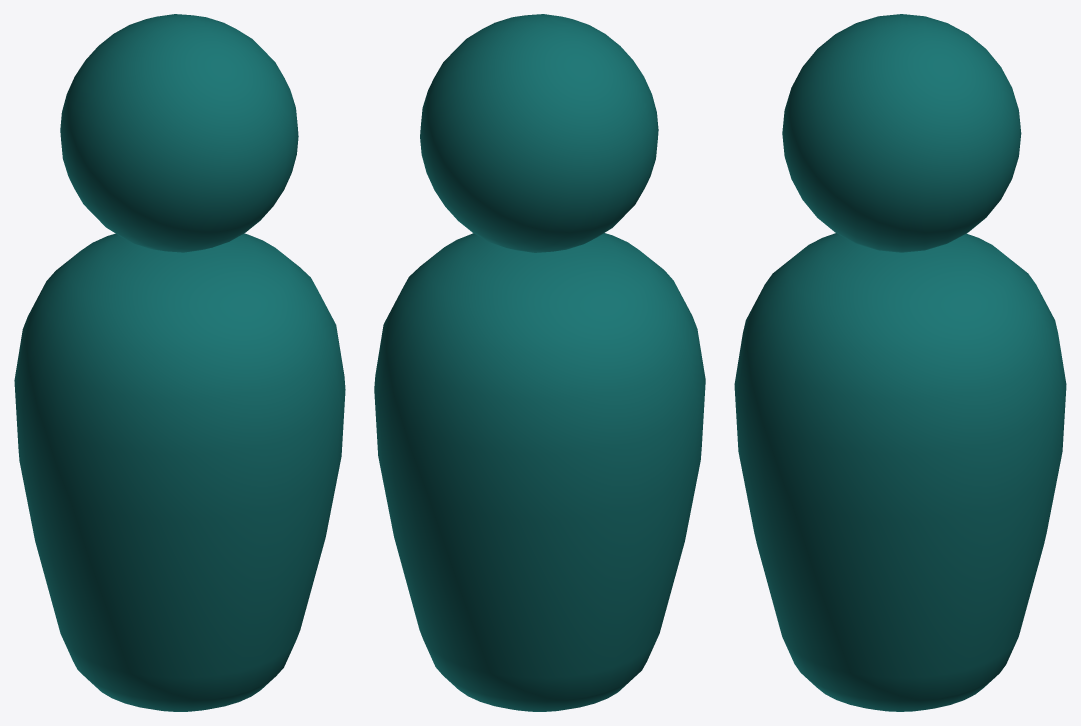
Rendered from location-marker(2).glb.
3 views of the same model, side by side, from view 1: azimuth 30°, elevation 25°; view 2: azimuth 150°, elevation 25°; view 3: azimuth 270°, elevation 25° (orthographic).
Parts seen in each view (by area): view 1: Sphere003; view 2: Sphere003; view 3: Sphere003.
Part boxes in pixels (left/top/right/bottom): Sphere003: left=14, top=14, right=345, bottom=711; Sphere003: left=374, top=14, right=705, bottom=711; Sphere003: left=734, top=14, right=1066, bottom=711.
Bounding box in the file's own units: 0.5579 × 1.23 × 0.5579.
